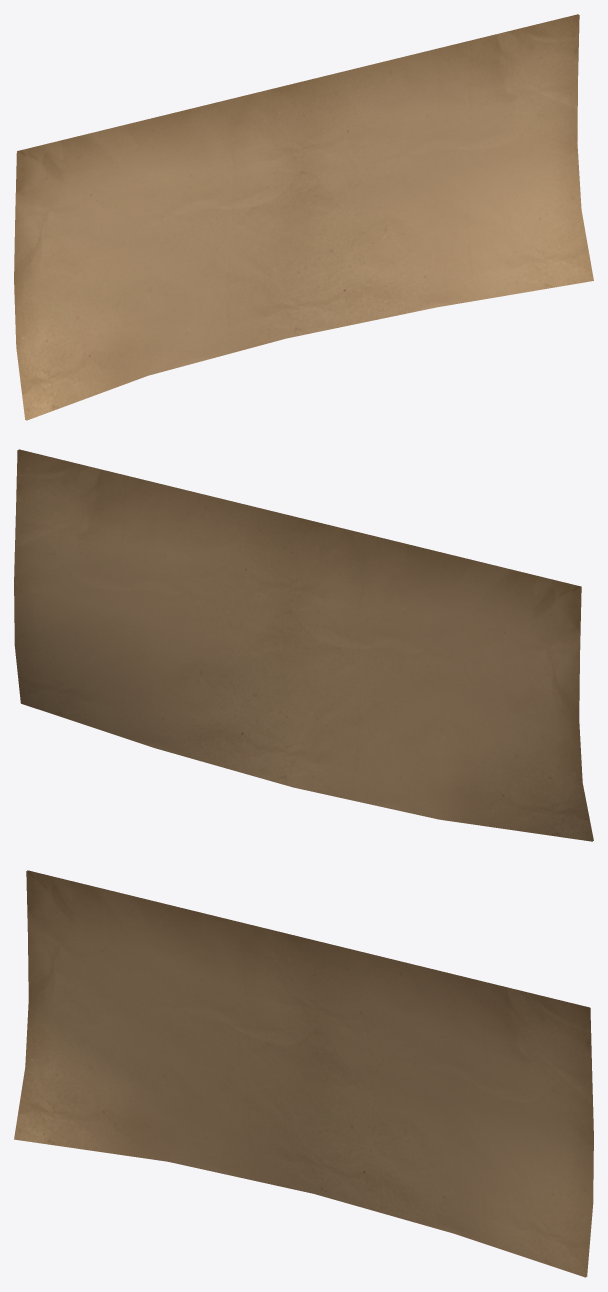
File: BackDesk_PaperCover.DAE
3 views of the same model, one above another, from view 1: azimuth 30°, elevation 25°; view 2: azimuth 150°, elevation 25°; view 3: azimuth 330°, elevation 25° (orthographic).
Parts seen in each view (by area): view 1: BackDesk_PaperCover; view 2: BackDesk_PaperCover; view 3: BackDesk_PaperCover.
Boxes of the visible parts, bbox=[...] form: BackDesk_PaperCover: bbox=[14, 14, 593, 420]; BackDesk_PaperCover: bbox=[14, 449, 593, 841]; BackDesk_PaperCover: bbox=[14, 870, 593, 1277].
Bounding box in the file's own units: 65.19 × 4.02 × 28.55.
1 material, 1 textured.
